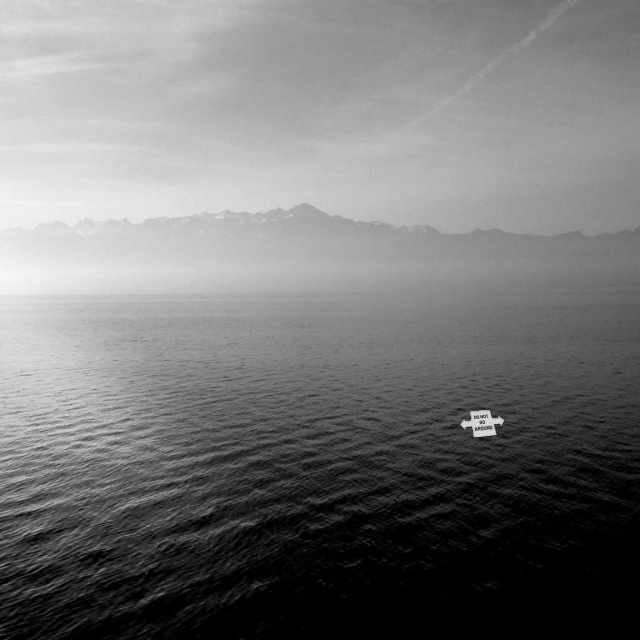DO_NOT_GO_AROUND: (459, 409, 505, 438)
